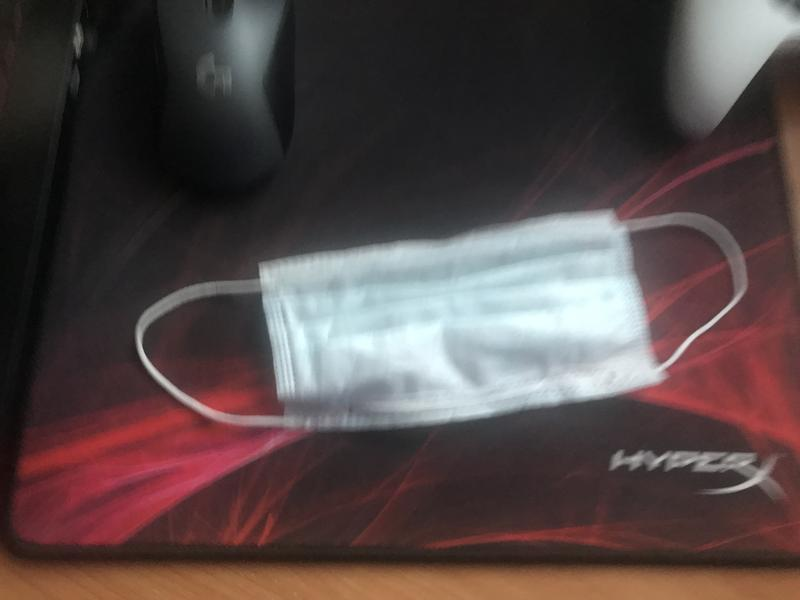medical_mask: (135, 211, 745, 434)
